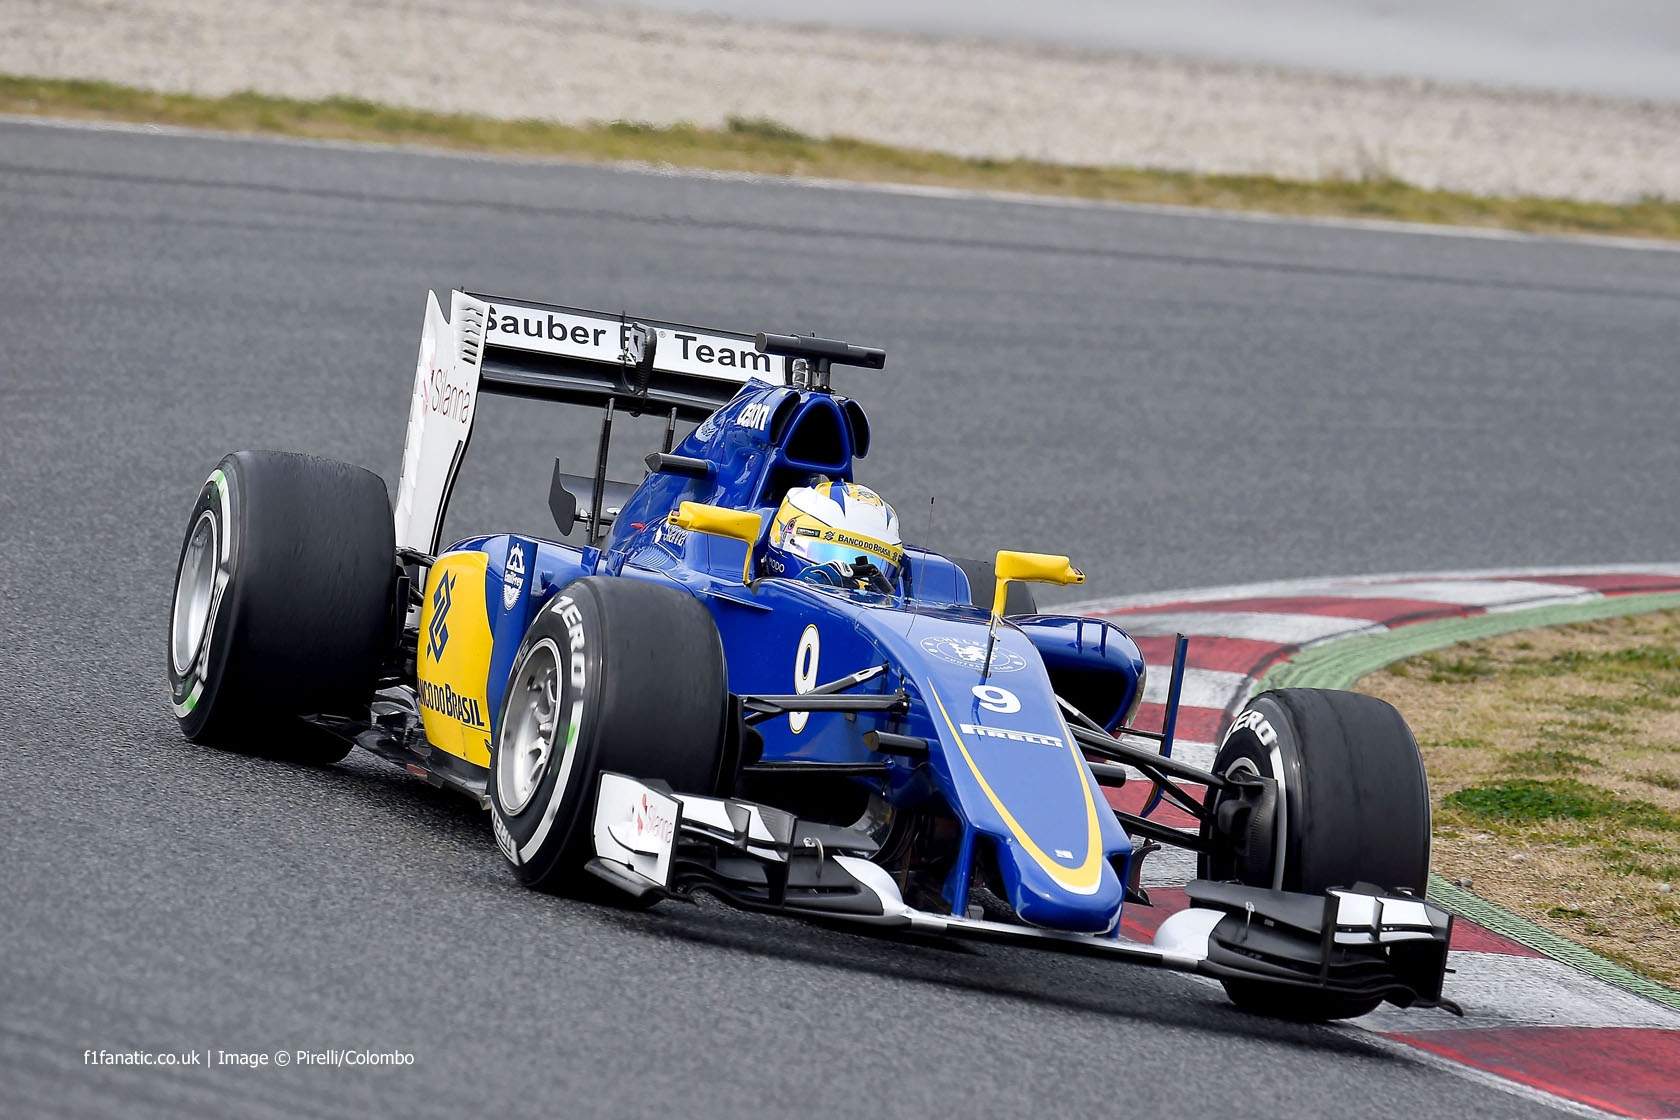F1 Car: (161, 274, 1487, 1030)
